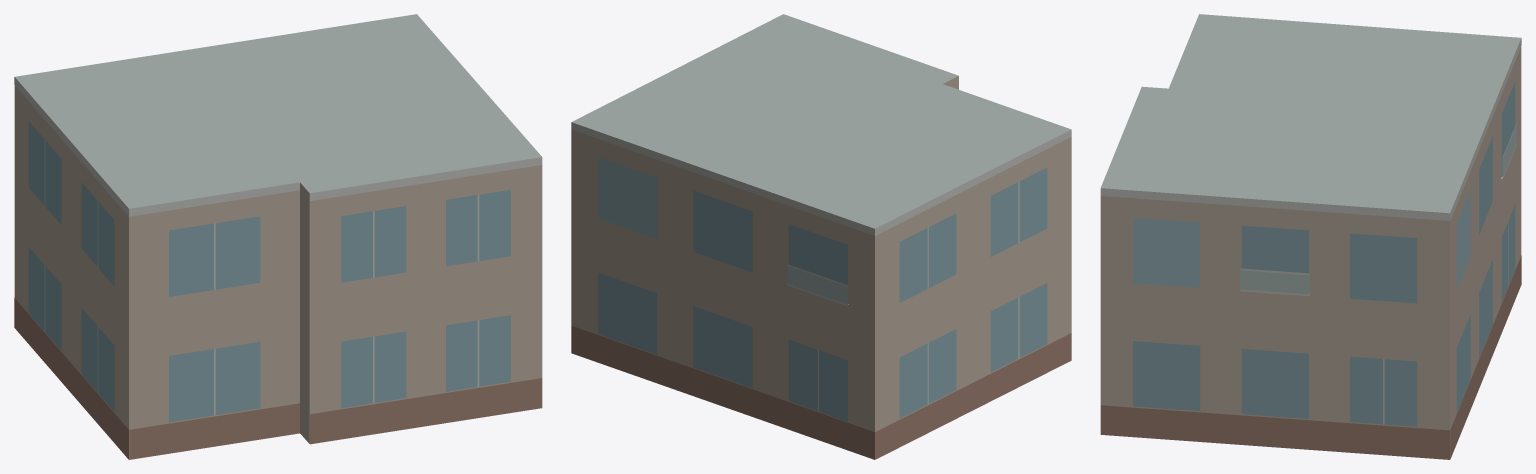
File: survey-upis-32961626.glb
3 renders of one model, left to right at view 1: azimuth 30°, elevation 25°; view 2: azimuth 150°, elevation 25°; view 3: azimuth 270°, elevation 25°, orthographic. The views are drawn at different scales.
Visible parts, largest first — view 1: survey-upis-32961626.tmp; view 2: survey-upis-32961626.tmp; view 3: survey-upis-32961626.tmp.
Boxes of the visible parts, box(x1,y1,x2,y2) form: survey-upis-32961626.tmp: box(14, 14, 542, 459); survey-upis-32961626.tmp: box(571, 14, 1071, 459); survey-upis-32961626.tmp: box(1100, 14, 1521, 459).
Bounding box in the file's own units: 13.53 × 7.8 × 12.08.
